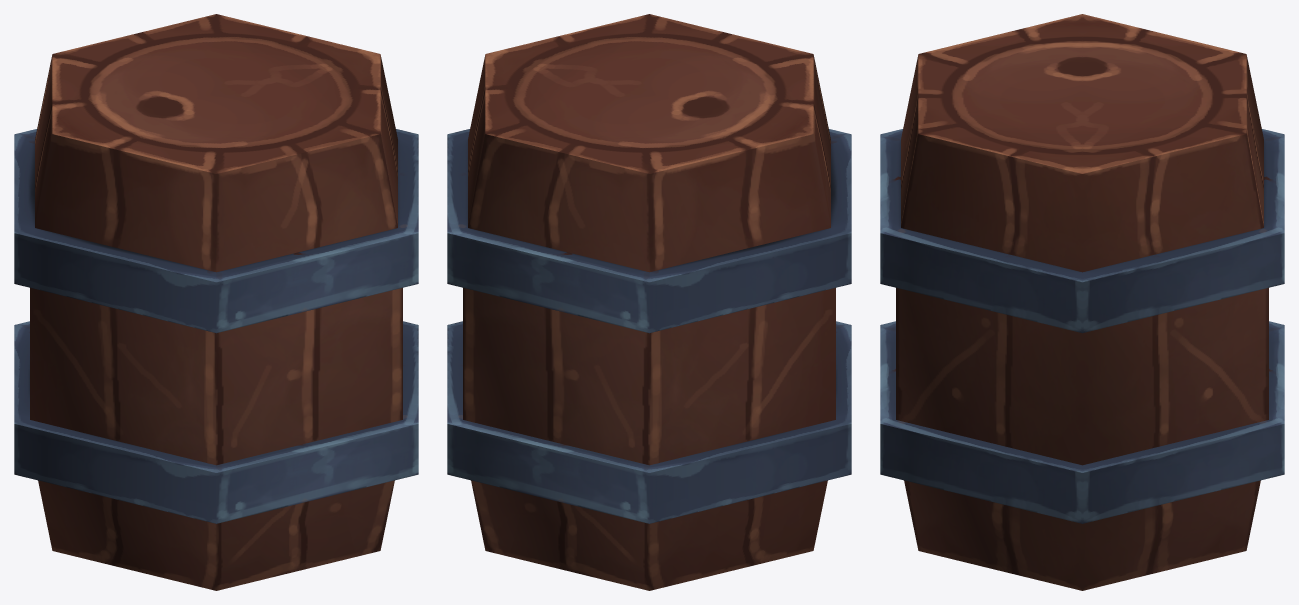
Rendered from barrel_01.fbx.
3 renders of one model, left to right at view 1: azimuth 30°, elevation 25°; view 2: azimuth 150°, elevation 25°; view 3: azimuth 270°, elevation 25°, orthographic.
Visible parts, largest first — view 1: barrel_01; view 2: barrel_01; view 3: barrel_01.
Boxes of the visible parts, box(x1,y1,x2,y2) form: barrel_01: box(14, 14, 418, 590); barrel_01: box(447, 14, 851, 590); barrel_01: box(880, 14, 1284, 590).
Size of the model in its own units: 1.92 by 1.89 by 1.66.
